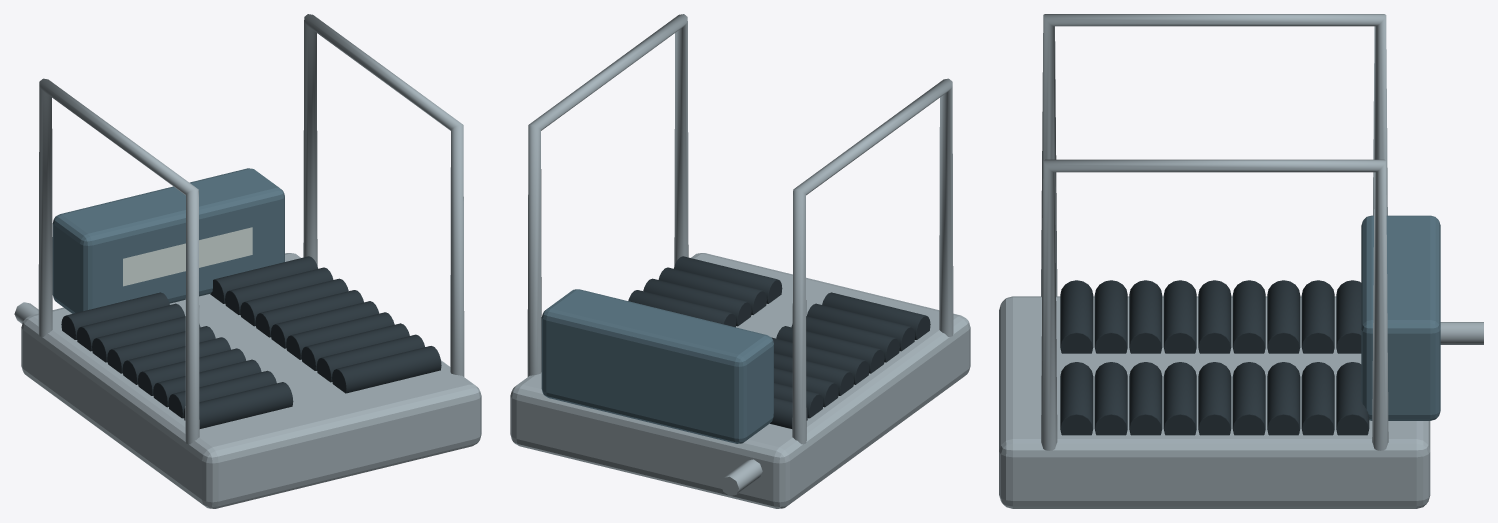
Rendered from OD_BootSoleWasher.fbx.
3 renders of one model, left to right at view 1: azimuth 30°, elevation 25°; view 2: azimuth 150°, elevation 25°; view 3: azimuth 270°, elevation 25°, orthographic. The views are drawn at different scales.
Visible parts, largest first — view 1: OD_BootSoleWasher; view 2: OD_BootSoleWasher; view 3: OD_BootSoleWasher.
Boxes of the visible parts, bbox=[...] form: OD_BootSoleWasher: bbox=[14, 14, 481, 508]; OD_BootSoleWasher: bbox=[510, 14, 970, 508]; OD_BootSoleWasher: bbox=[999, 14, 1483, 508].
Bounding box in the file's own units: 105 × 112 × 140.
